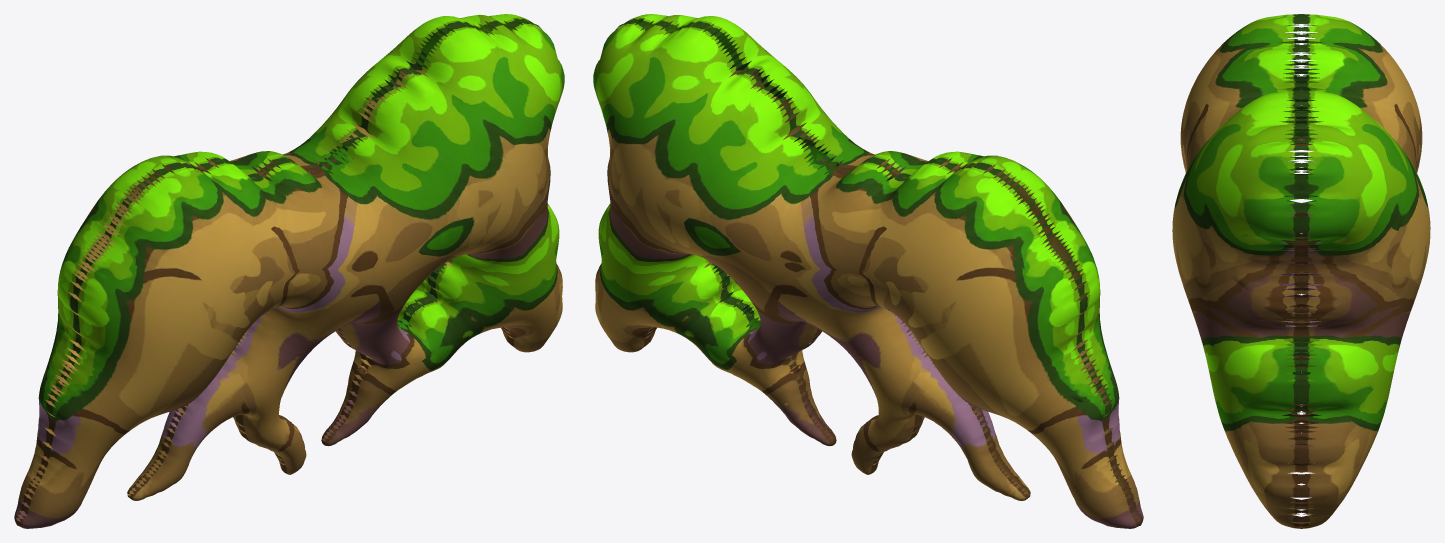
File: root_arch.glb
3 renders of one model, left to right at view 1: azimuth 30°, elevation 25°; view 2: azimuth 150°, elevation 25°; view 3: azimuth 270°, elevation 25°, orthographic. The views are drawn at different scales.
Visible parts, largest first — view 1: root_arch; view 2: root_arch; view 3: root_arch.
Part boxes in pixels (x1=…): root_arch: x1=14, y1=14, x2=564, y2=528; root_arch: x1=593, y1=14, x2=1143, y2=528; root_arch: x1=1172, y1=14, x2=1430, y2=528.
Size of the model in its own units: 0.9888 by 0.7167 by 0.3569.
1 material, 1 textured.
